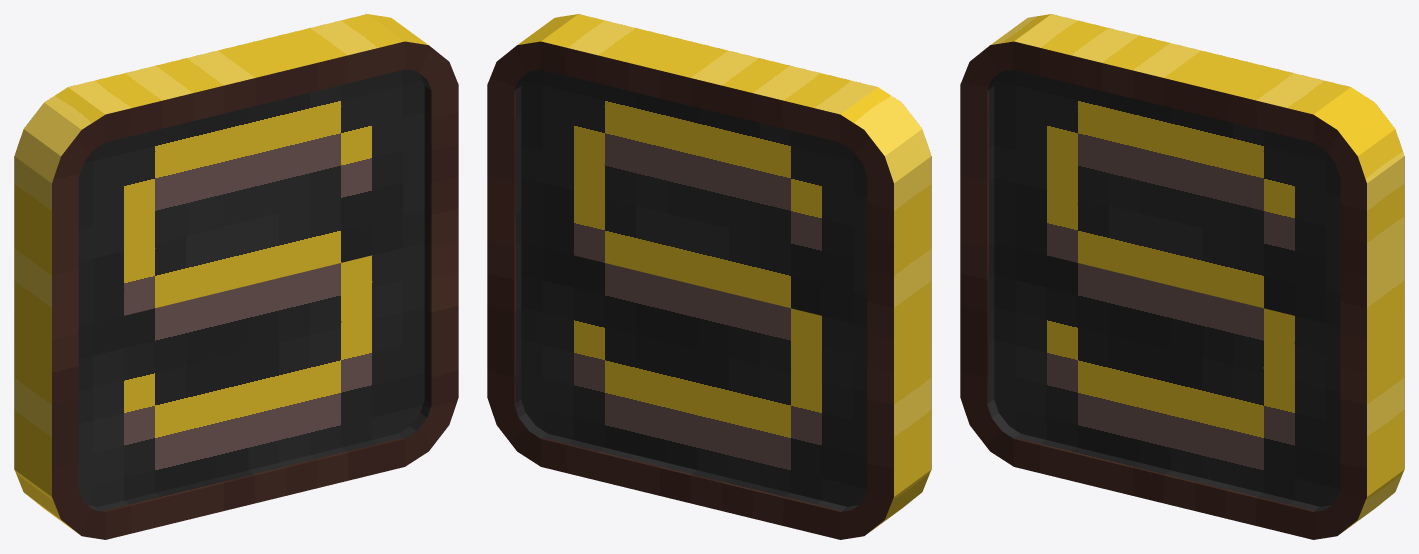
Rendered from slick_coin.glb.
3 renders of one model, left to right at view 1: azimuth 30°, elevation 25°; view 2: azimuth 150°, elevation 25°; view 3: azimuth 330°, elevation 25°, orthographic.
Visible parts, largest first — view 1: Cube; view 2: Cube; view 3: Cube.
Boxes of the visible parts, box(x1,y1,x2,y2) form: Cube: box(14, 14, 458, 539); Cube: box(487, 14, 931, 539); Cube: box(960, 14, 1404, 539).
Size of the model in its own units: 0.5 by 0.5 by 0.08.
Materials: 1 (1 with a texture image).
